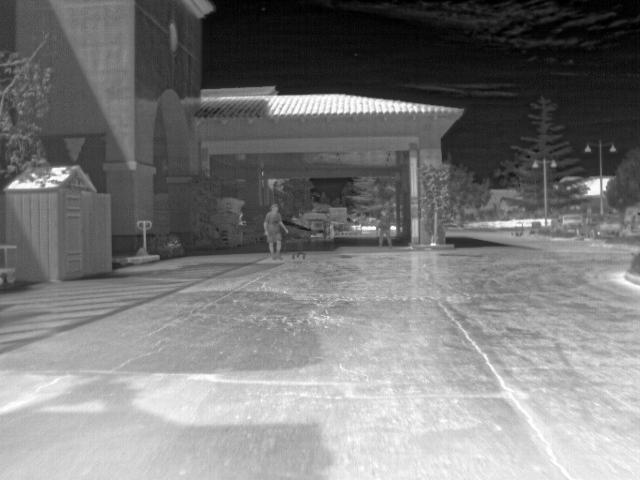car: (555, 212, 584, 232), (625, 207, 640, 239)
person: (263, 200, 283, 260), (376, 206, 394, 250)
